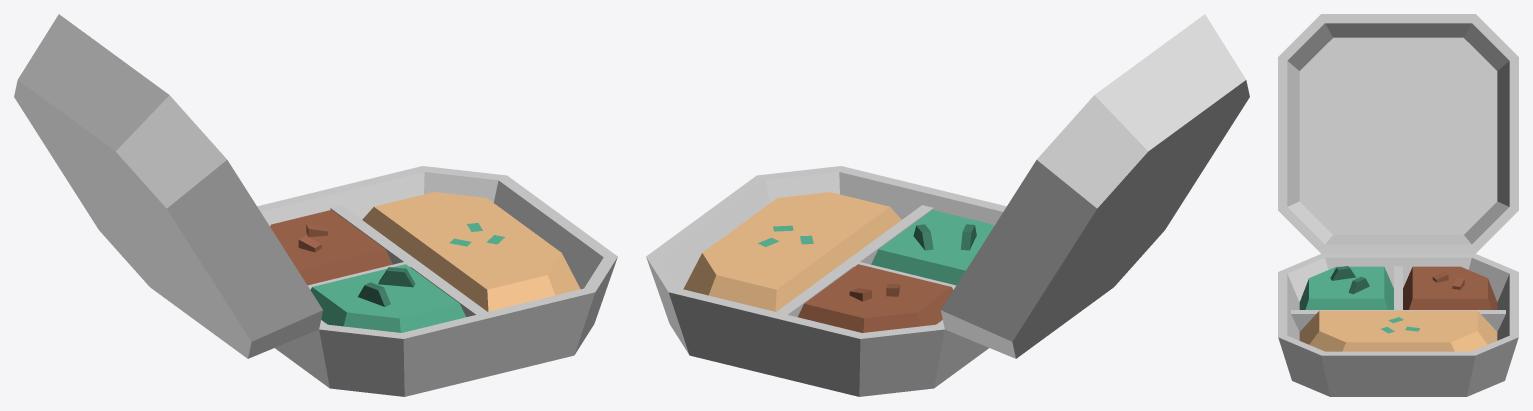
The model's file is styrofoamDinner.dae.
3 views of the same model, side by side, from view 1: azimuth 30°, elevation 25°; view 2: azimuth 150°, elevation 25°; view 3: azimuth 270°, elevation 25° (orthographic). The views are drawn at different scales.
Parts seen in each view (by area): view 1: styrofoamDinner, lid; view 2: styrofoamDinner, lid; view 3: lid, styrofoamDinner.
Part boxes in pixels (<box>): styrofoamDinner: <box>257,166,617,396</box>; lid: <box>14,14,322,358</box>; styrofoamDinner: <box>646,166,1006,396</box>; lid: <box>941,14,1249,358</box>; lid: <box>1278,14,1518,253</box>; styrofoamDinner: <box>1278,253,1518,396</box>.
Bounding box in the file's own units: 1.26 × 0.822 × 0.7589.
